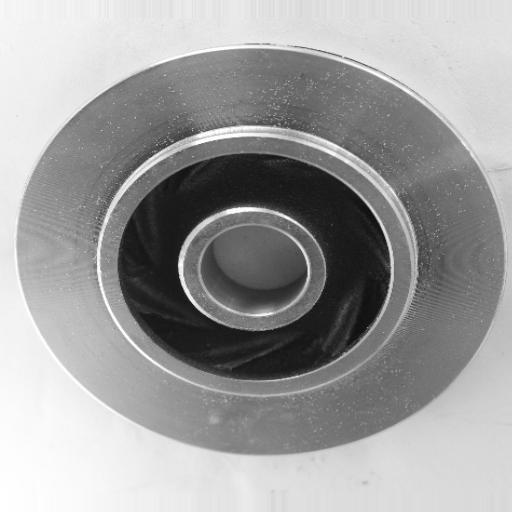polished_casting: (18, 42, 507, 457)
